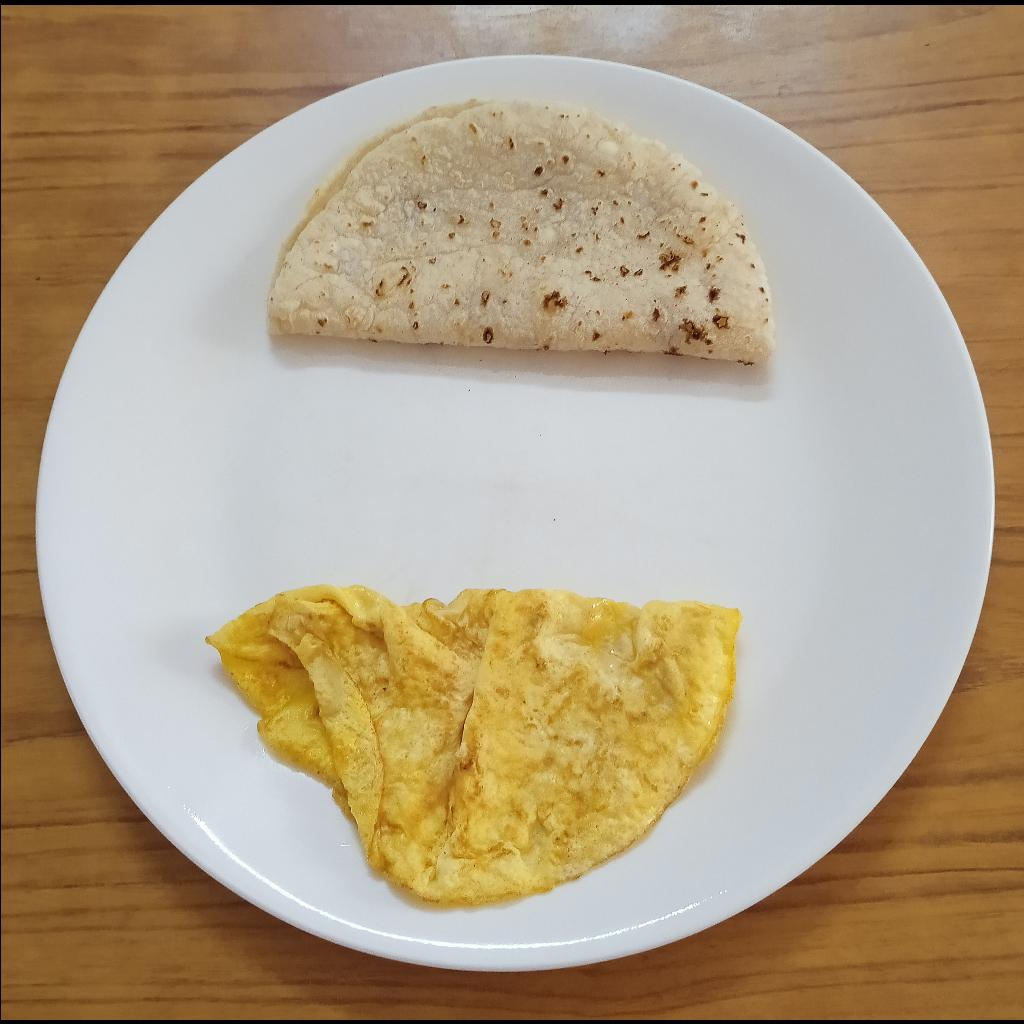egg-poached: (205, 584, 741, 904)
ruti: (262, 98, 778, 364)
